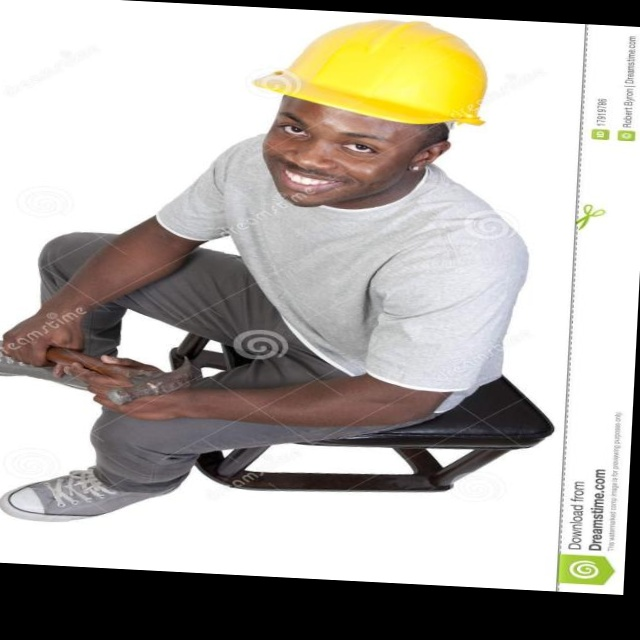Con_Casco: (257, 15, 494, 207)
